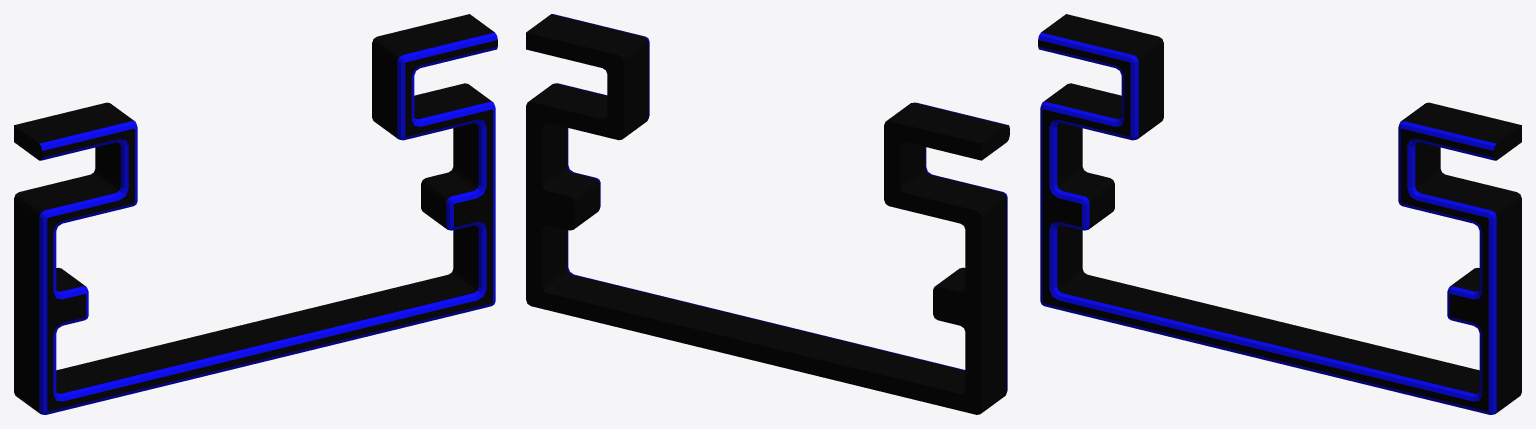
File: 100_BottomWall.obj
3 renders of one model, left to right at view 1: azimuth 30°, elevation 25°; view 2: azimuth 150°, elevation 25°; view 3: azimuth 330°, elevation 25°, orthographic.
Parts seen in each view (by area): view 1: BottomWall_Plane.858; view 2: BottomWall_Plane.858; view 3: BottomWall_Plane.858.
Part boxes in pixels (x1,y1,x2,y2): BottomWall_Plane.858: (14, 14, 497, 414); BottomWall_Plane.858: (526, 14, 1009, 414); BottomWall_Plane.858: (1038, 14, 1521, 414).
Size of the model in its own units: 28 by 16 by 3.
